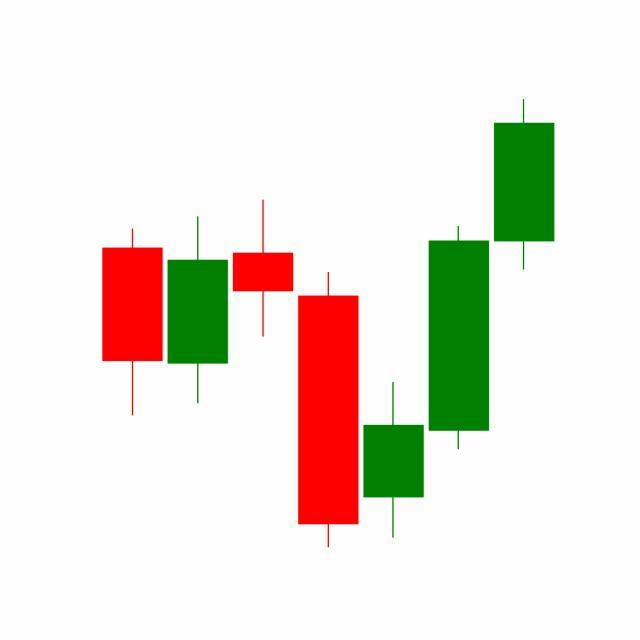Three Inside Up-Down: (295, 222, 492, 549)
